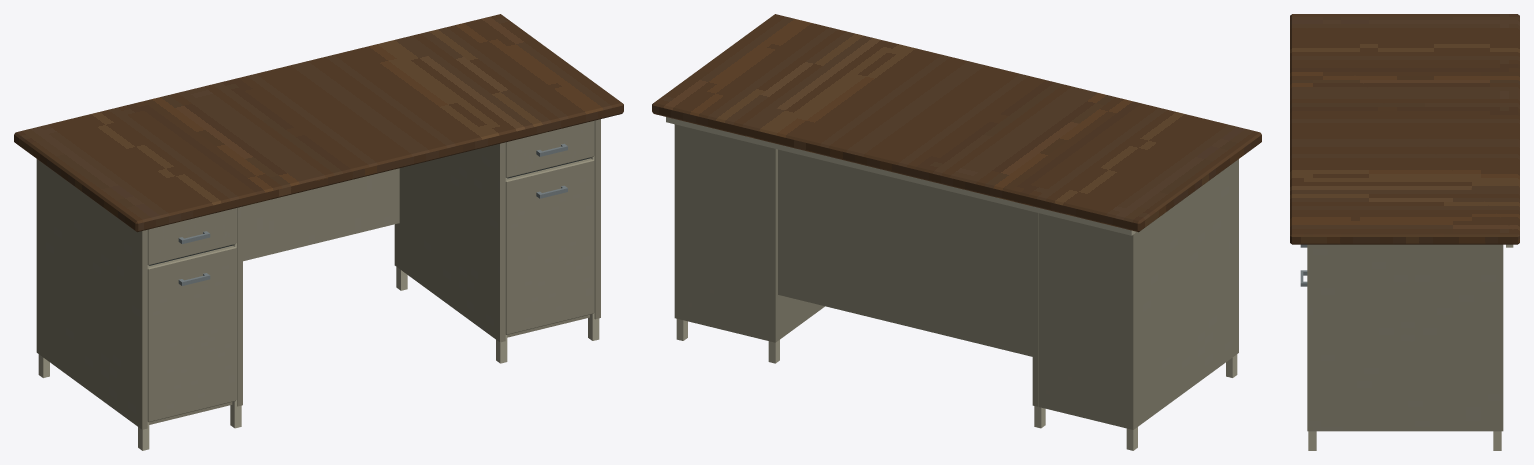
The model's file is desk.glb.
The picture shows the model from 3 angles, left to right: view 1: azimuth 30°, elevation 25°; view 2: azimuth 150°, elevation 25°; view 3: azimuth 270°, elevation 25°; orthographic projection. The views are drawn at different scales.
Parts seen in each view (by area): view 1: core_desk; view 2: core_desk; view 3: core_desk.
Boxes of the visible parts, left/top/right/bottom form: core_desk: left=14, top=14, right=623, bottom=450; core_desk: left=652, top=14, right=1261, bottom=450; core_desk: left=1290, top=14, right=1519, bottom=450.
Size of the model in its own units: 1.6 by 0.75 by 0.7.
Materials: 5 (5 with a texture image).
